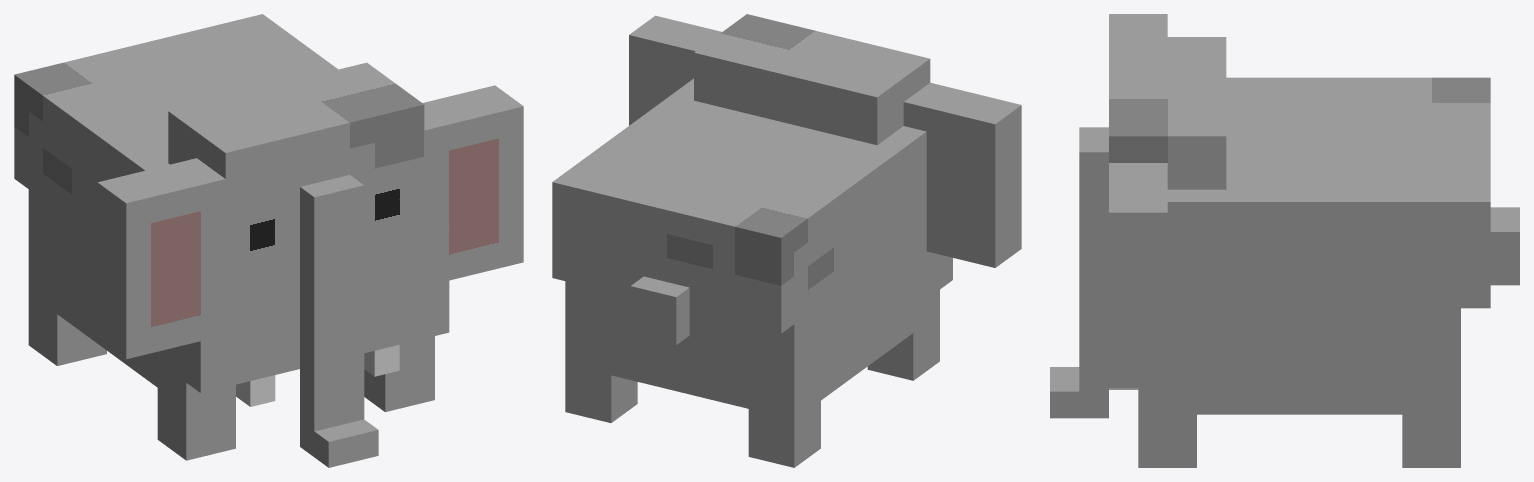
3 renders of one model, left to right at view 1: azimuth 30°, elevation 25°; view 2: azimuth 150°, elevation 25°; view 3: azimuth 270°, elevation 25°, orthographic. The views are drawn at different scales.
Parts seen in each view (by area): view 1: Matrix; view 2: Matrix; view 3: Matrix.
Part boxes in pixels (bbox=[...]): Matrix: bbox=[14, 14, 523, 467]; Matrix: bbox=[552, 14, 1021, 467]; Matrix: bbox=[1050, 14, 1519, 467].
Bounding box in the file's own units: 16 × 12 × 16.
Materials: 1 (1 with a texture image).
